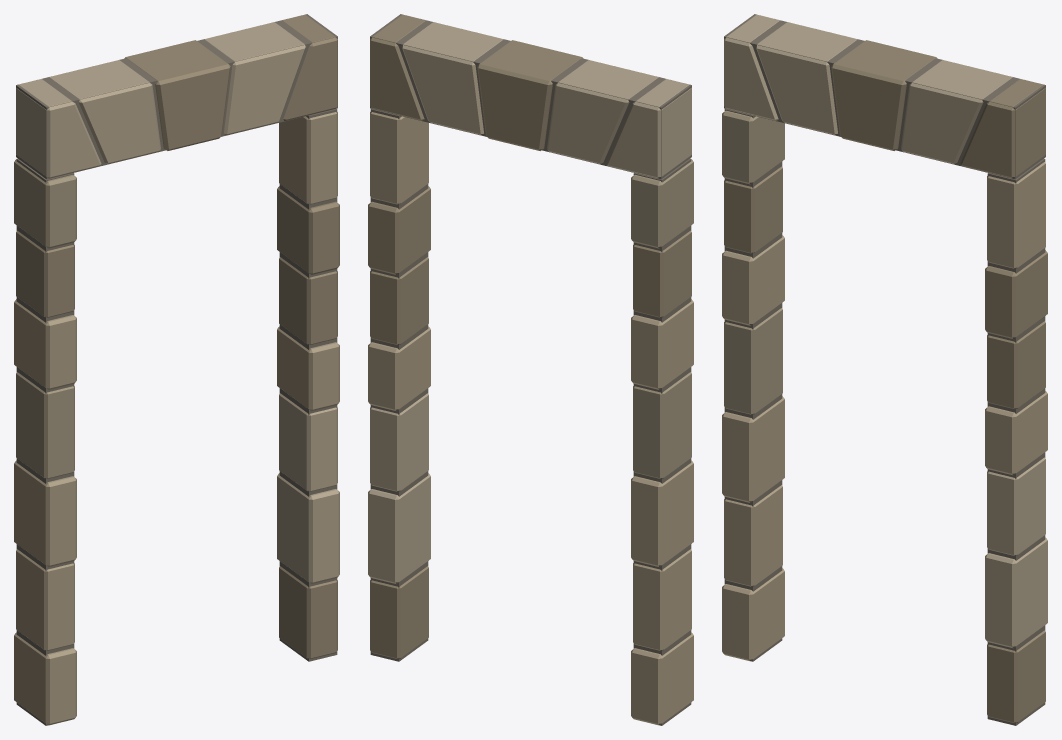
File: marco-ancho.glb
3 views of the same model, side by side, from view 1: azimuth 30°, elevation 25°; view 2: azimuth 150°, elevation 25°; view 3: azimuth 330°, elevation 25° (orthographic).
Parts seen in each view (by area): view 1: MarcoAncho_piedra; view 2: MarcoAncho_piedra; view 3: MarcoAncho_piedra.
Boxes of the visible parts, x1,y1,x2,y2 form: MarcoAncho_piedra: (14,14,339,725); MarcoAncho_piedra: (368,14,693,725); MarcoAncho_piedra: (722,14,1047,725).
Size of the model in its own units: 1.32 by 2.65 by 0.28.
